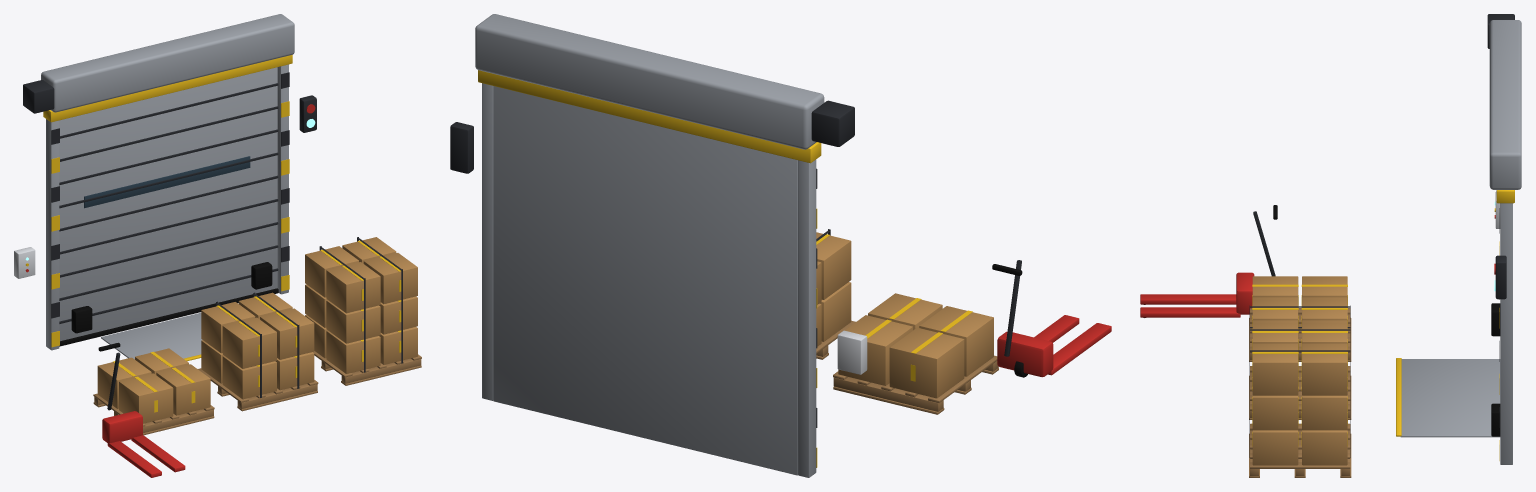
Rendered from Station_Shipping.fbx.
3 views of the same model, side by side, from view 1: azimuth 30°, elevation 25°; view 2: azimuth 150°, elevation 25°; view 3: azimuth 270°, elevation 25° (orthographic). The views are drawn at different scales.
Parts seen in each view (by area): view 1: Dock Door, Outbound Pallet, Outbound Pallet.001, Outbound Pallet.002, Pallet Jack; view 2: Dock Door, Outbound Pallet.002, Pallet Jack, Outbound Pallet.001; view 3: Dock Door, Outbound Pallet, Pallet Jack, Outbound Pallet.001, Outbound Pallet.002.
Boxes of the visible parts, <box> form: Dock Door: <box>14,14,316,361</box>; Outbound Pallet: <box>305,237,421,385</box>; Outbound Pallet.001: <box>198,292,318,411</box>; Outbound Pallet.002: <box>93,348,214,435</box>; Pallet Jack: <box>98,342,185,477</box>; Dock Door: <box>450,14,867,477</box>; Outbound Pallet.002: <box>833,293,998,414</box>; Pallet Jack: <box>992,260,1111,377</box>; Outbound Pallet.001: <box>816,229,855,359</box>; Dock Door: <box>1396,14,1521,464</box>; Outbound Pallet: <box>1249,322,1351,477</box>; Pallet Jack: <box>1140,205,1277,317</box>; Outbound Pallet.001: <box>1249,299,1351,419</box>; Outbound Pallet.002: <box>1249,276,1351,361</box>.
Bounding box in the file's own units: 4.65 × 3.77 × 4.18.
